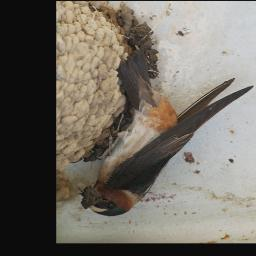Swallow: (81, 76, 255, 217)
